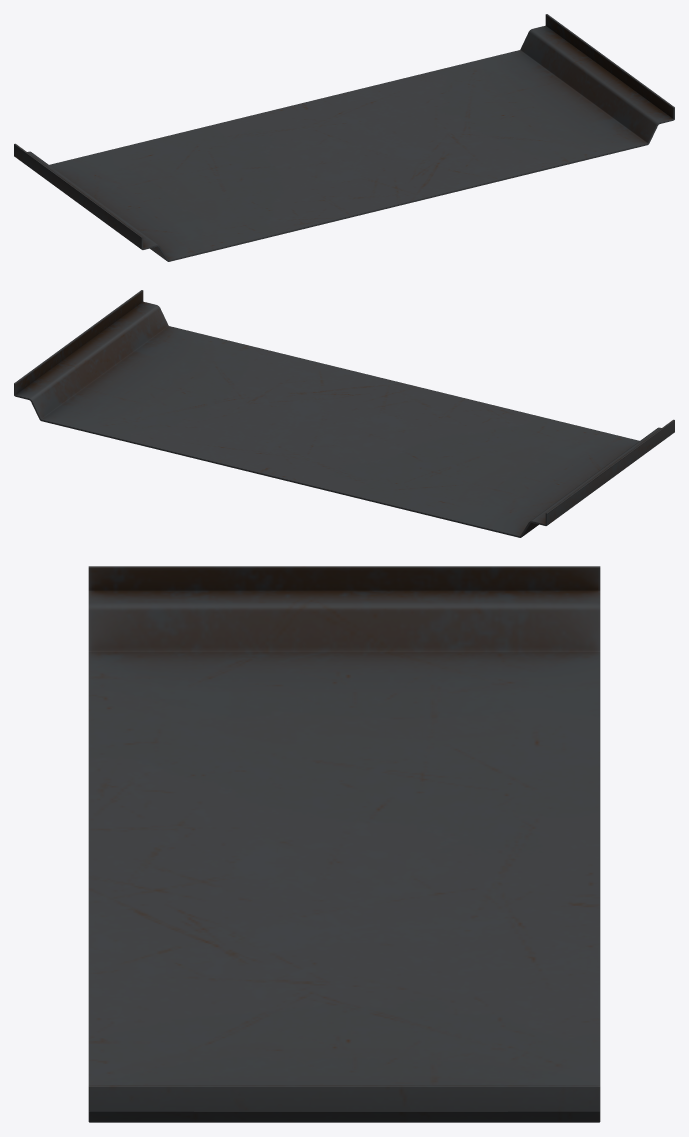
File: SM_RoofAccessories01.fbx
The picture shows the model from 3 angles, top to bottom: view 1: azimuth 30°, elevation 25°; view 2: azimuth 150°, elevation 25°; view 3: azimuth 270°, elevation 25°; orthographic projection. The views are drawn at different scales.
Visible parts, largest first — view 1: SM_RoofAccessories01_LOD0; view 2: SM_RoofAccessories01_LOD0; view 3: SM_RoofAccessories01_LOD0.
Boxes of the visible parts, x1,y1,x2,y2 form: SM_RoofAccessories01_LOD0: [14, 14, 674, 261]; SM_RoofAccessories01_LOD0: [14, 290, 674, 537]; SM_RoofAccessories01_LOD0: [88, 566, 600, 1122].
Size of the model in its own units: 349 by 145 by 23.15.
Materials: 1 (1 with a texture image).
